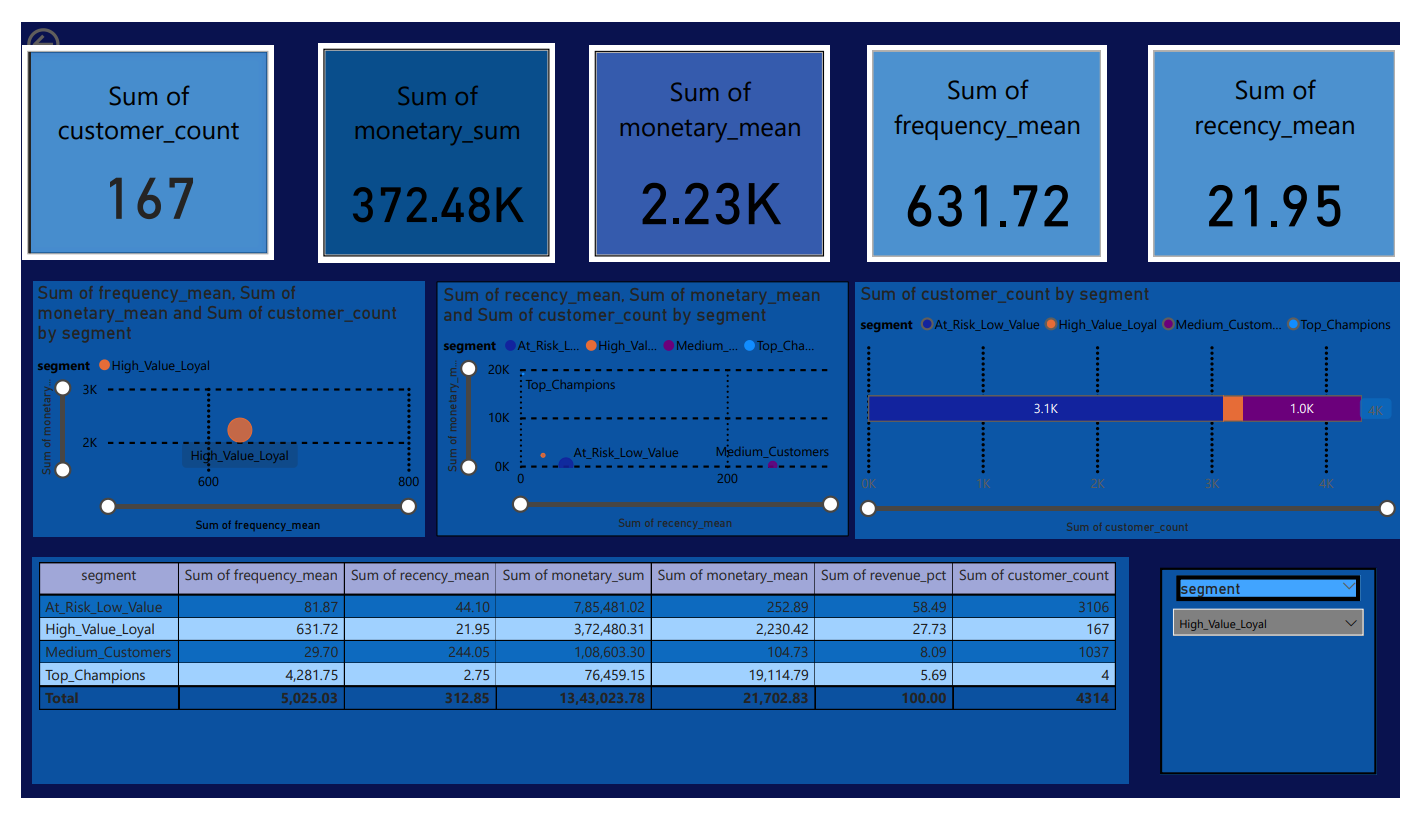

Layout of this report page (visuals, bound fields, positions):
{"tool":"powerbi","page":{"name":"Page 1","canvas":[1280,720],"ordinal":0},"visuals":[{"type":"scatterChart","fields":{"X":["Sum(RFM_SegmentSummary_Enhanced.frequency_mean)"],"Y":["Sum(RFM_SegmentSummary_Enhanced.monetary_mean)"],"Series":["RFM_SegmentSummary_Enhanced.segment"],"Size":["Sum(RFM_SegmentSummary_Enhanced.customer_count)"]},"box":[10,240,364,237],"z":0},{"type":"scatterChart","fields":{"X":["Sum(RFM_SegmentSummary_Enhanced.recency_mean)"],"Y":["Sum(RFM_SegmentSummary_Enhanced.monetary_mean)"],"Series":["RFM_SegmentSummary_Enhanced.segment"],"Size":["Sum(RFM_SegmentSummary_Enhanced.customer_count)"]},"box":[385,240,383,237],"z":1000},{"type":"barChart","fields":{"Y":["Sum(RFM_SegmentSummary_Enhanced.customer_count)"],"Series":["RFM_SegmentSummary_Enhanced.segment"]},"box":[773.8,241.2,506.2,237.5],"z":2000},{"type":"slicer","fields":{"Values":["RFM_SegmentSummary_Enhanced.segment"]},"box":[1056.7,505.5,201.7,192.1],"z":3000},{"type":"tableEx","fields":{"Values":["RFM_SegmentSummary_Enhanced.segment","Sum(RFM_SegmentSummary_Enhanced.frequency_mean)","Sum(RFM_SegmentSummary_Enhanced.recency_mean)","Sum(RFM_SegmentSummary_Enhanced.monetary_sum)","Sum(RFM_SegmentSummary_Enhanced.monetary_mean)","Sum(RFM_SegmentSummary_Enhanced.revenue_pct)","Sum(RFM_SegmentSummary_Enhanced.customer_count)"]},"box":[10,496,1018,210],"z":4000},{"type":"actionButton","box":[0,0,100,40],"z":5000},{"type":"cardVisual","fields":{"Data":["Sum(RFM_SegmentSummary_Enhanced.customer_count)","select"]},"box":[0,21,234,199],"z":6000},{"type":"cardVisual","fields":{"Data":["Sum(RFM_SegmentSummary_Enhanced.monetary_sum)"]},"box":[275,18.8,220,203.8],"z":7000},{"type":"cardVisual","fields":{"Data":["Sum(RFM_SegmentSummary_Enhanced.monetary_mean)"]},"box":[527,21,223,201],"z":8000},{"type":"cardVisual","fields":{"Data":["Sum(RFM_SegmentSummary_Enhanced.frequency_mean)"]},"box":[785,21,222,201],"z":9000},{"type":"cardVisual","fields":{"Data":["Sum(RFM_SegmentSummary_Enhanced.recency_mean)"]},"box":[1046,21,234,201],"z":10000}]}

Visuals, with their boxes in screenshot pixels (x1, y1, x2, y2), scaled from the page's 1280x720 canvas onto the 1421x823 screenshot:
scatterChart - Sum(RFM_SegmentSummary_Enhanced.frequency_mean) x Sum(RFM_SegmentSummary_Enhanced.monetary_mean): 11, 274, 415, 545
scatterChart - Sum(RFM_SegmentSummary_Enhanced.recency_mean) x Sum(RFM_SegmentSummary_Enhanced.monetary_mean): 427, 274, 853, 545
barChart - Sum(RFM_SegmentSummary_Enhanced.customer_count) x RFM_SegmentSummary_Enhanced.segment: 859, 276, 1420, 547
slicer - RFM_SegmentSummary_Enhanced.segment: 1173, 578, 1397, 797
tableEx - RFM_SegmentSummary_Enhanced.segment x Sum(RFM_SegmentSummary_Enhanced.frequency_mean): 11, 567, 1141, 807
actionButton: 0, 0, 111, 46
cardVisual - Sum(RFM_SegmentSummary_Enhanced.customer_count) x select: 0, 24, 260, 251
cardVisual - Sum(RFM_SegmentSummary_Enhanced.monetary_sum): 305, 21, 550, 254
cardVisual - Sum(RFM_SegmentSummary_Enhanced.monetary_mean): 585, 24, 833, 254
cardVisual - Sum(RFM_SegmentSummary_Enhanced.frequency_mean): 871, 24, 1118, 254
cardVisual - Sum(RFM_SegmentSummary_Enhanced.recency_mean): 1161, 24, 1420, 254
